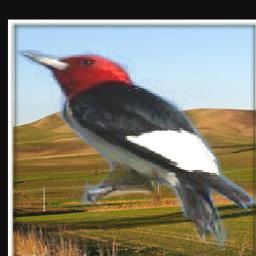Woodpecker: (15, 50, 256, 249)
